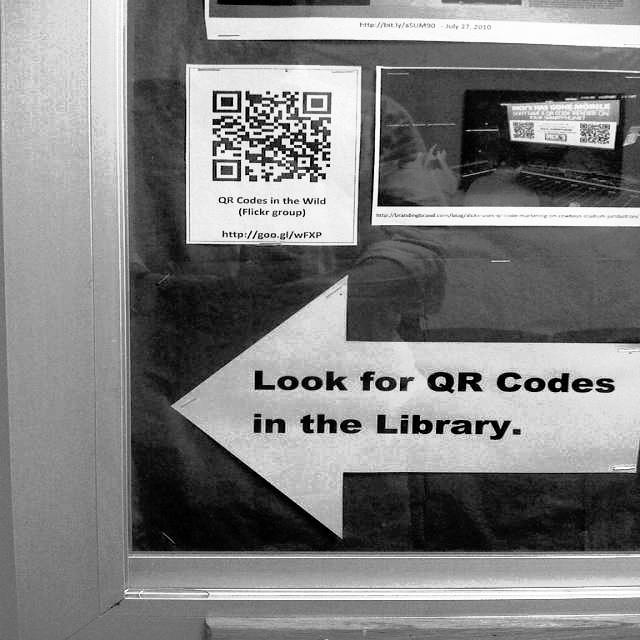qr_code: (212, 91, 331, 183)
